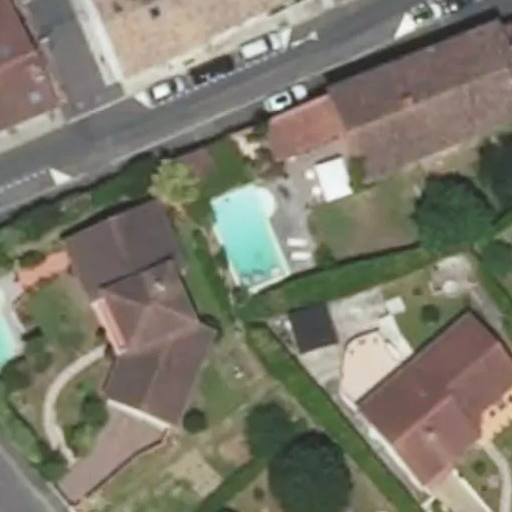pool: (218, 205, 293, 278)
